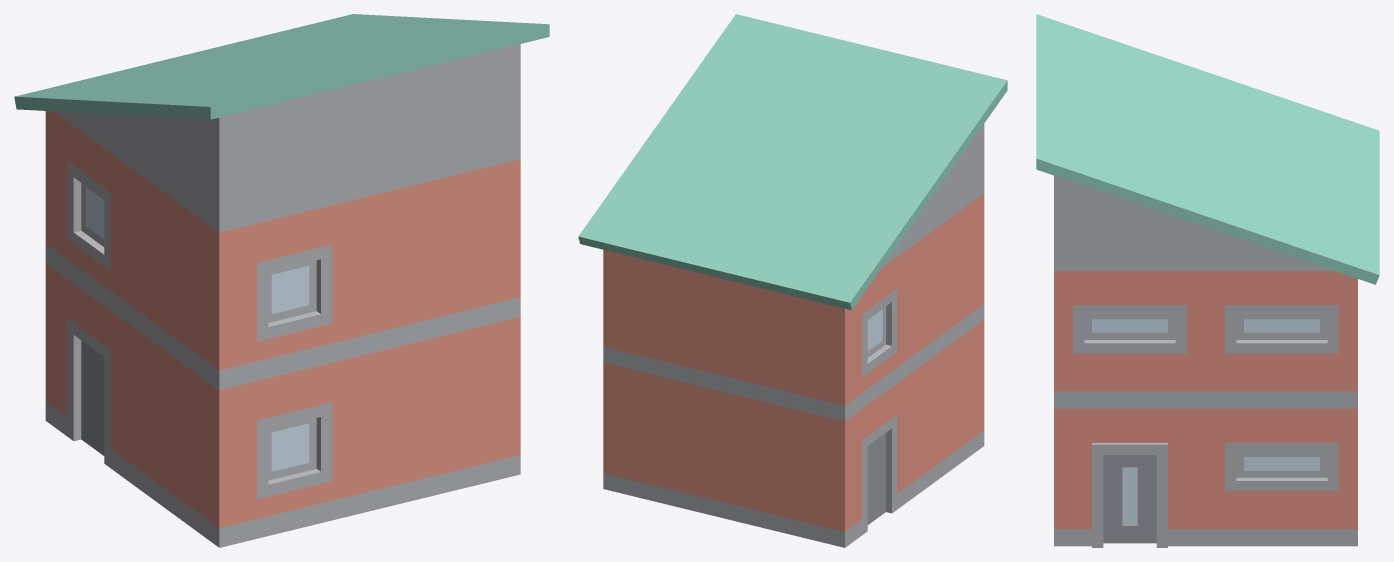
The model's file is house15.fbx.
3 renders of one model, left to right at view 1: azimuth 30°, elevation 25°; view 2: azimuth 150°, elevation 25°; view 3: azimuth 270°, elevation 25°, orthographic. The views are drawn at different scales.
Visible parts, largest first — view 1: house_type15; view 2: house_type15; view 3: house_type15.
Boxes of the visible parts, bbox=[...] form: house_type15: bbox=[14, 14, 549, 547]; house_type15: bbox=[578, 14, 1007, 547]; house_type15: bbox=[1036, 14, 1379, 547].
Size of the model in its own units: 900 by 1150 by 904.
